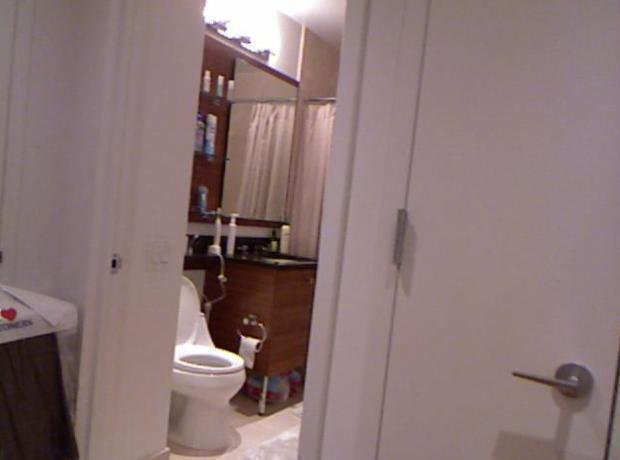Sanitario: (140, 268, 244, 455)
